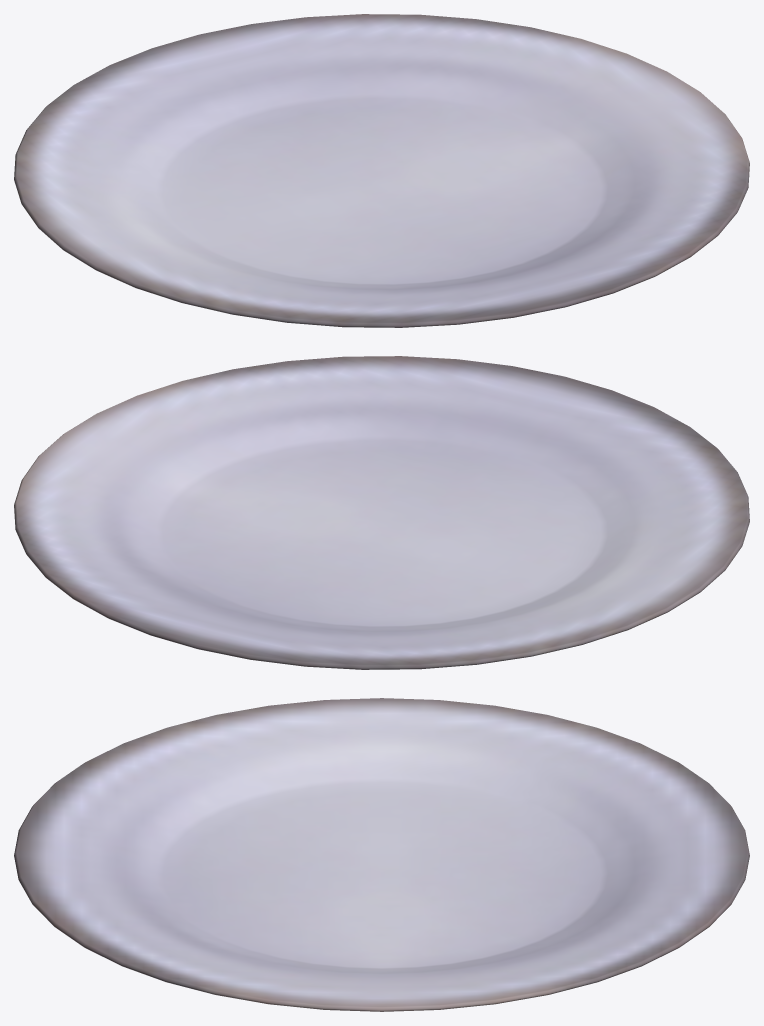
File: pan.fbx
3 renders of one model, top to bottom at view 1: azimuth 30°, elevation 25°; view 2: azimuth 150°, elevation 25°; view 3: azimuth 270°, elevation 25°, orthographic.
Parts seen in each view (by area): view 1: polySurface4; view 2: polySurface4; view 3: polySurface4.
Part boxes in pixels (box(x1,y1,x2,y2)): polySurface4: box(14, 14, 749, 327); polySurface4: box(14, 356, 749, 669); polySurface4: box(14, 698, 749, 1011).
Size of the model in its own units: 33.73 by 2.99 by 33.73.
